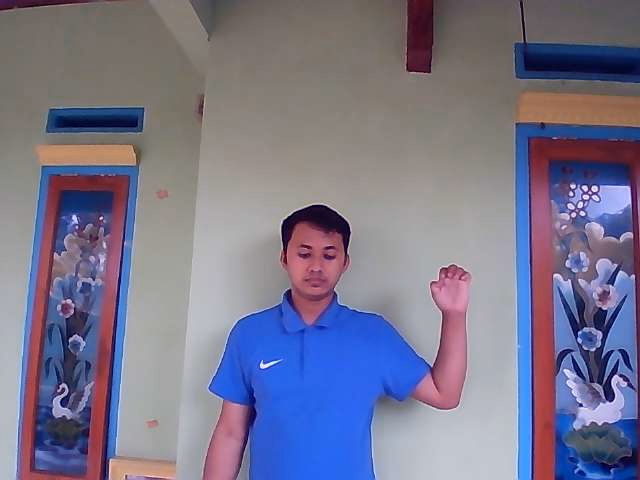E: (429, 262, 473, 316)
